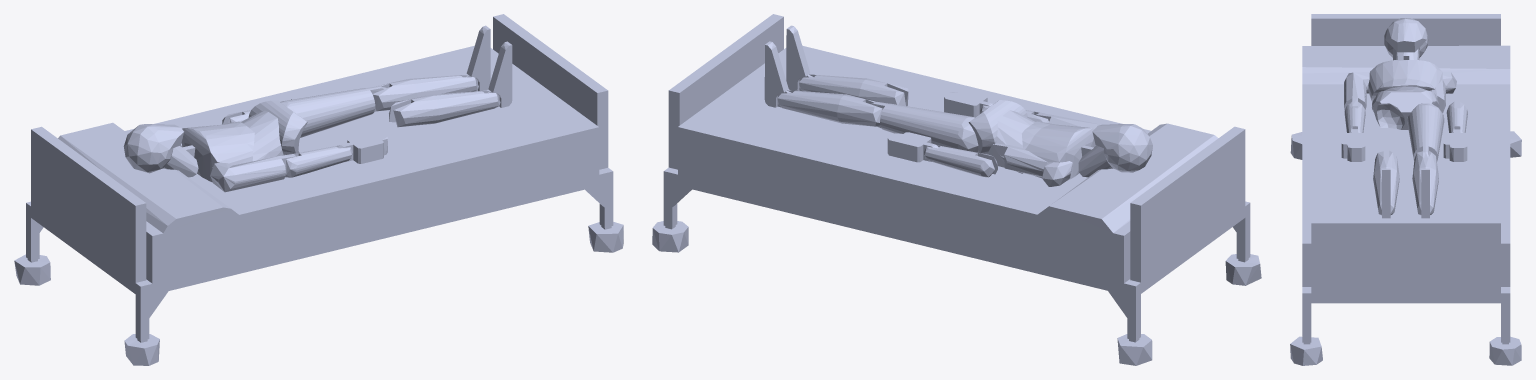
File: bed_and_body_v2_low_res_rounded.dae
The picture shows the model from 3 angles, left to right: view 1: azimuth 30°, elevation 25°; view 2: azimuth 150°, elevation 25°; view 3: azimuth 270°, elevation 25°; orthographic projection. The views are drawn at different scales.
Parts seen in each view (by area): view 1: bed_frame_link, leg_rest_lower_link, head_rest_link, leg_rest_upper_link, upper_body_link, base_link, quad_left_link, calf_right_link, head_link, calf_left_link, arm_right_link, lower_body_link (+6 smaller); view 2: bed_frame_link, leg_rest_lower_link, head_rest_link, leg_rest_upper_link, quad_left_link, base_link, calf_left_link, upper_body_link, head_link, calf_right_link, arm_left_link, forearm_left_link (+7 smaller); view 3: bed_frame_link, head_rest_link, leg_rest_lower_link, leg_rest_upper_link, base_link, upper_body_link, lower_body_link, quad_left_link, head_link, calf_right_link, calf_left_link, arm_right_link (+8 smaller).
Part boxes in pixels (box(x1,y1,x2,y2)): bed_frame_link: box(26, 14, 613, 340); leg_rest_lower_link: box(335, 45, 599, 210); head_rest_link: box(58, 114, 308, 283); leg_rest_upper_link: box(255, 80, 449, 230); upper_body_link: box(181, 122, 254, 182); base_link: box(14, 222, 623, 365); quad_left_link: box(280, 86, 386, 137); calf_right_link: box(389, 90, 500, 127); head_link: box(123, 124, 183, 173); calf_left_link: box(372, 74, 478, 111); arm_right_link: box(210, 154, 295, 192); lower_body_link: box(248, 100, 307, 155); bed_frame_link: box(663, 14, 1250, 340); leg_rest_lower_link: box(678, 45, 941, 210); head_rest_link: box(968, 114, 1218, 283); leg_rest_upper_link: box(827, 80, 1021, 230); quad_left_link: box(870, 101, 978, 152); base_link: box(652, 221, 1261, 365); calf_left_link: box(777, 90, 882, 126); upper_body_link: box(1022, 121, 1096, 180); head_link: box(1092, 124, 1152, 172); calf_right_link: box(799, 74, 908, 106); arm_left_link: box(988, 143, 1072, 186); forearm_left_link: box(923, 145, 997, 177); bed_frame_link: box(1302, 14, 1510, 342); head_rest_link: box(1302, 45, 1510, 114); leg_rest_lower_link: box(1302, 177, 1510, 286); leg_rest_upper_link: box(1302, 142, 1510, 177); base_link: box(1290, 131, 1521, 365); upper_body_link: box(1368, 60, 1442, 102); lower_body_link: box(1373, 91, 1439, 129); quad_left_link: box(1407, 103, 1444, 161); head_link: box(1384, 18, 1428, 57); calf_right_link: box(1373, 150, 1399, 215); calf_left_link: box(1412, 151, 1438, 215); arm_right_link: box(1344, 71, 1369, 110).
Bounding box in the file's own units: 2.28 × 1.02 × 0.8075.
